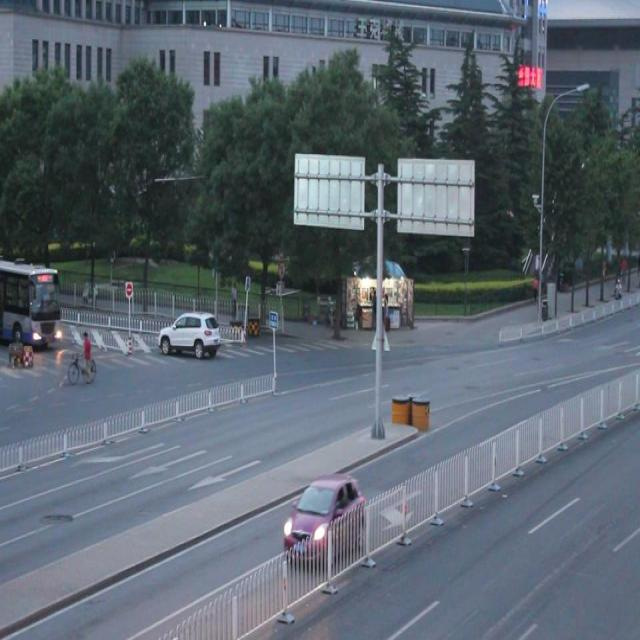car: (283, 469, 366, 566), (159, 305, 223, 359)
van: (0, 255, 62, 352)
